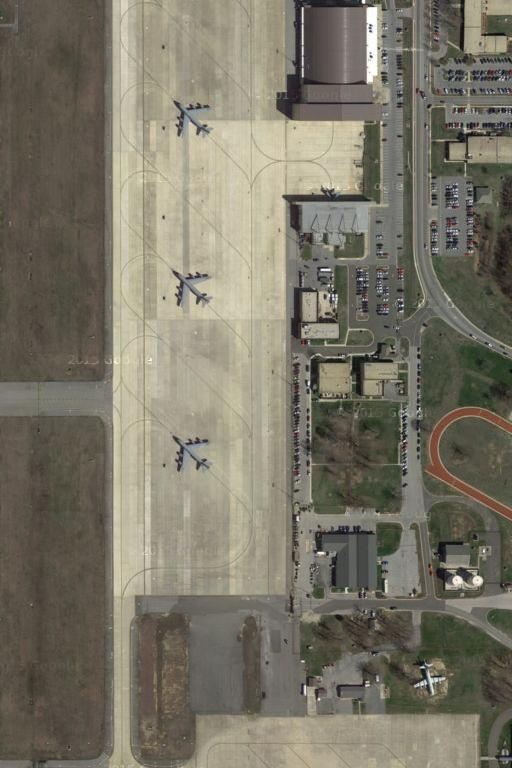KC-135: (172, 100, 219, 141), (170, 269, 213, 311), (170, 436, 215, 475)
